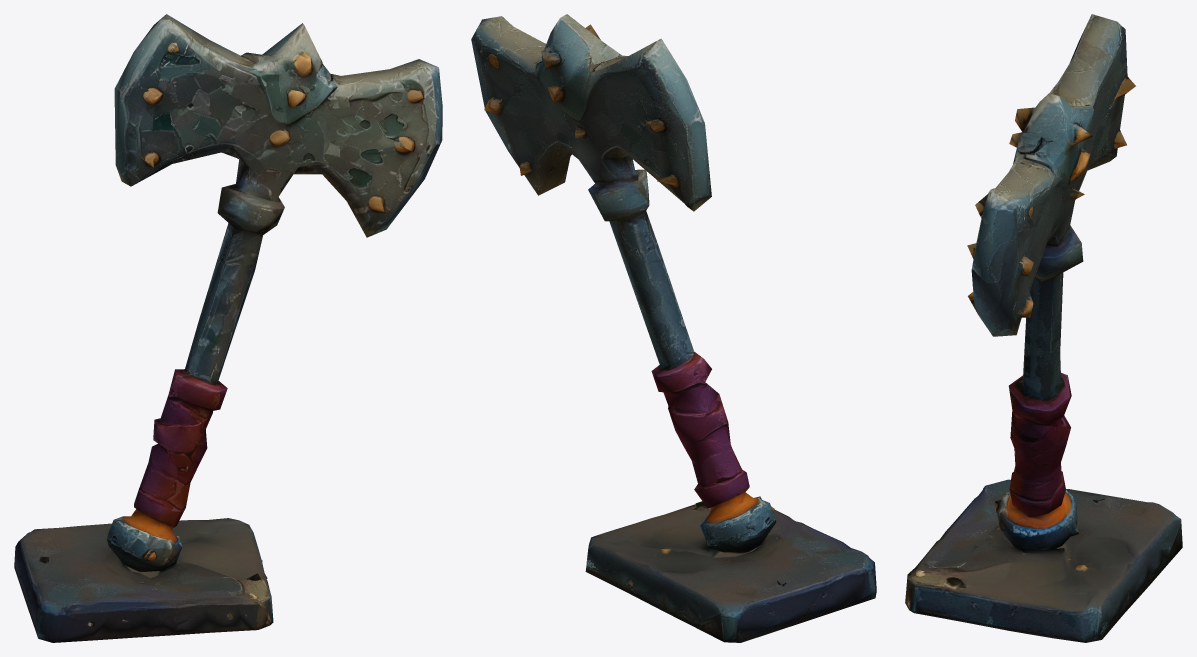
File: weapon_mace_tertiary_1500_raw.glb
The picture shows the model from 3 angles, left to right: view 1: azimuth 30°, elevation 25°; view 2: azimuth 150°, elevation 25°; view 3: azimuth 270°, elevation 25°; orthographic projection. The views are drawn at different scales.
Visible parts, largest first — view 1: tripo_node_17c05a33-768f-49c2-ab88-22a6272b5a84; view 2: tripo_node_17c05a33-768f-49c2-ab88-22a6272b5a84; view 3: tripo_node_17c05a33-768f-49c2-ab88-22a6272b5a84.
Boxes of the visible parts, left/top/right/bottom form: tripo_node_17c05a33-768f-49c2-ab88-22a6272b5a84: left=14, top=14, right=442, bottom=642; tripo_node_17c05a33-768f-49c2-ab88-22a6272b5a84: left=471, top=14, right=876, bottom=642; tripo_node_17c05a33-768f-49c2-ab88-22a6272b5a84: left=905, top=14, right=1182, bottom=642.
Size of the model in its own units: 0.7472 by 0.9776 by 0.4179.
1 material, 1 textured.
